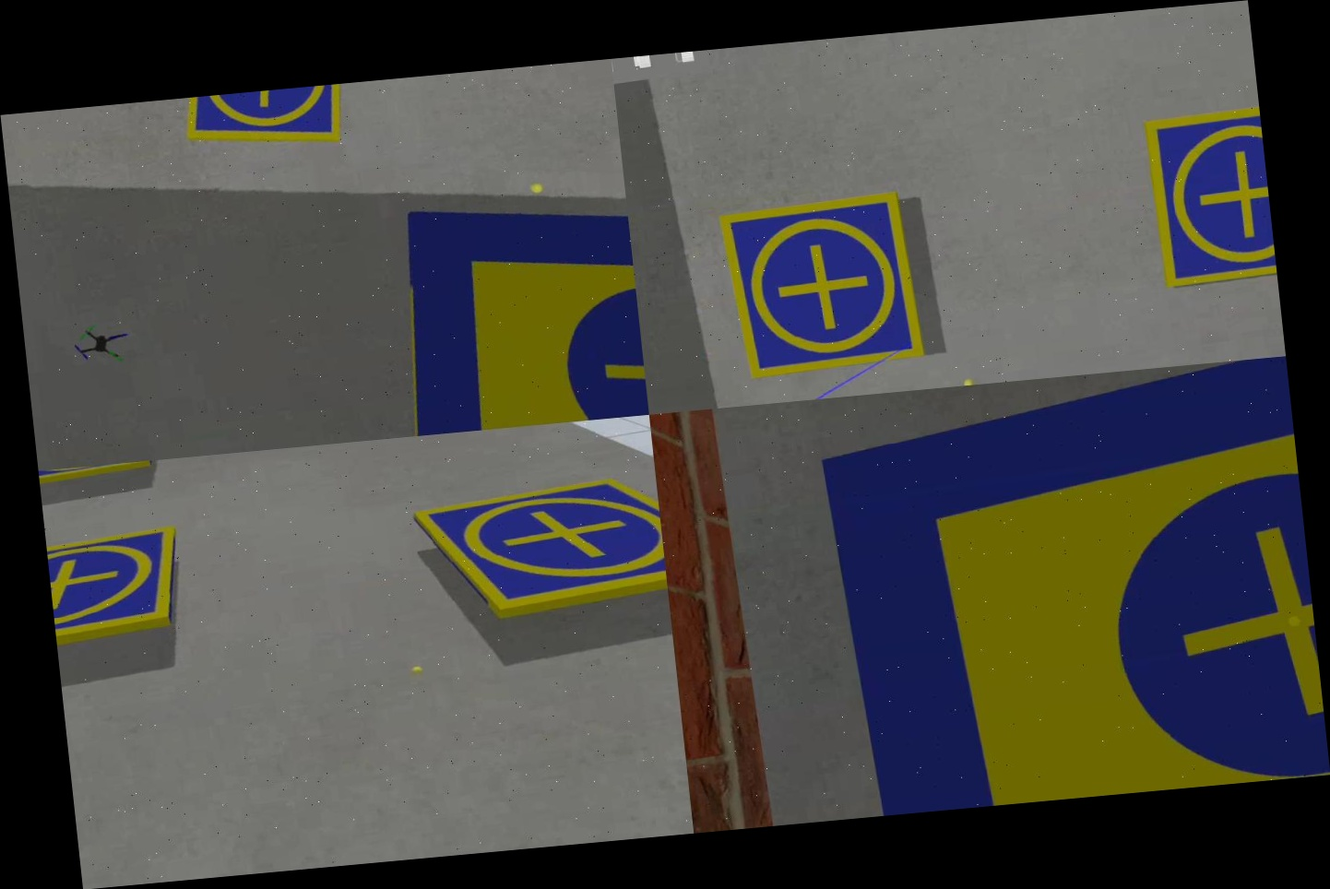large_base: (806, 356, 1330, 818), (361, 165, 649, 439)
small_base: (407, 464, 671, 634), (712, 184, 932, 386), (1135, 98, 1277, 296), (45, 526, 199, 652), (175, 82, 365, 170), (39, 459, 167, 491)
